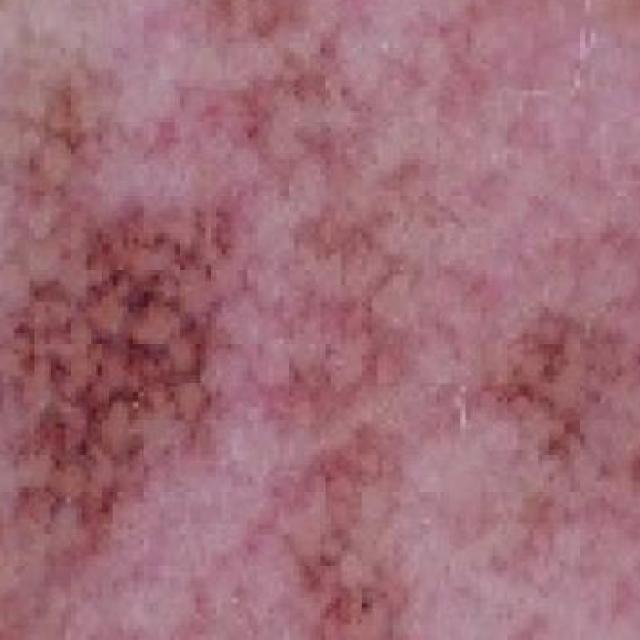MEL: (0, 0, 505, 640)
